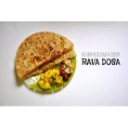dosa: (14, 26, 77, 77)
